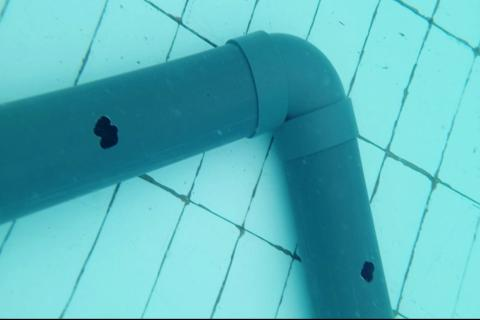kebocoran: (93, 115, 119, 151), (360, 258, 374, 282)
